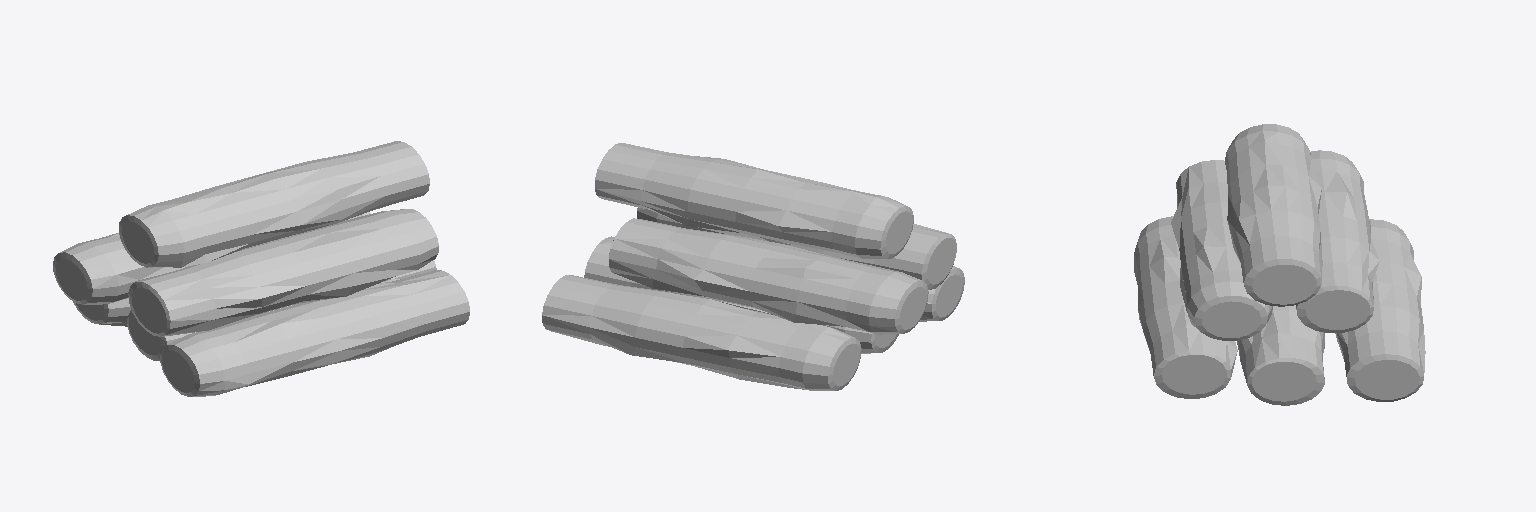
Rendered from woods.obj.
The picture shows the model from 3 angles: view 1: azimuth 30°, elevation 25°; view 2: azimuth 150°, elevation 25°; view 3: azimuth 270°, elevation 25°; orthographic projection.
Visible parts, largest first — view 1: Wood.003_Cylinder.008, Wood.005_Cylinder.010, Wood.002_Cylinder.007, Wood.004_Cylinder.009, Wood.001_Cylinder.006, Wood_Cylinder; view 2: Wood.004_Cylinder.009, Wood_Cylinder, Wood.005_Cylinder.010, Wood.003_Cylinder.008, Wood.001_Cylinder.006, Wood.002_Cylinder.007; view 3: Wood.005_Cylinder.010, Wood.003_Cylinder.008, Wood_Cylinder, Wood.002_Cylinder.007, Wood.004_Cylinder.009, Wood.001_Cylinder.006.
Part boxes in pixels (x1,y1,x2,y2): Wood.003_Cylinder.008: (128, 209, 438, 336); Wood.005_Cylinder.010: (119, 141, 429, 267); Wood.002_Cylinder.007: (160, 270, 469, 396); Wood.004_Cylinder.009: (53, 214, 362, 304); Wood.001_Cylinder.006: (127, 260, 436, 360); Wood_Cylinder: (73, 212, 370, 326); Wood.004_Cylinder.009: (609, 218, 928, 334); Wood_Cylinder: (542, 275, 861, 390); Wood.005_Cylinder.010: (595, 143, 913, 258); Wood.003_Cylinder.008: (637, 207, 956, 289); Wood.001_Cylinder.006: (584, 236, 898, 353); Wood.002_Cylinder.007: (919, 266, 964, 321); Wood.005_Cylinder.010: (1225, 124, 1322, 306); Wood.003_Cylinder.008: (1171, 160, 1272, 340); Wood_Cylinder: (1335, 219, 1425, 401); Wood.002_Cylinder.007: (1134, 216, 1237, 398); Wood.004_Cylinder.009: (1296, 150, 1379, 332); Wood.001_Cylinder.006: (1237, 305, 1324, 405).
Size of the model in its own units: 0.407 by 0.1836 by 0.309.